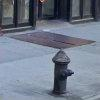a fire hydrant: (51, 48, 75, 92)
